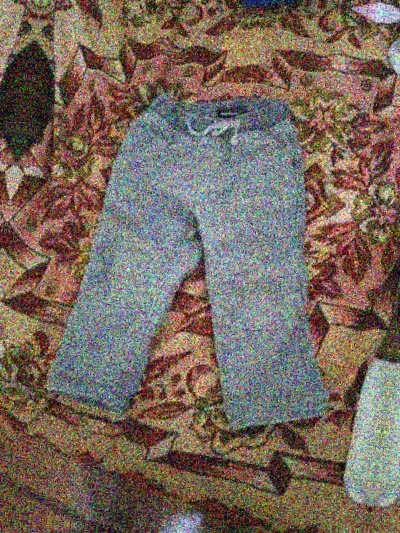Pants: (40, 53, 364, 435)
